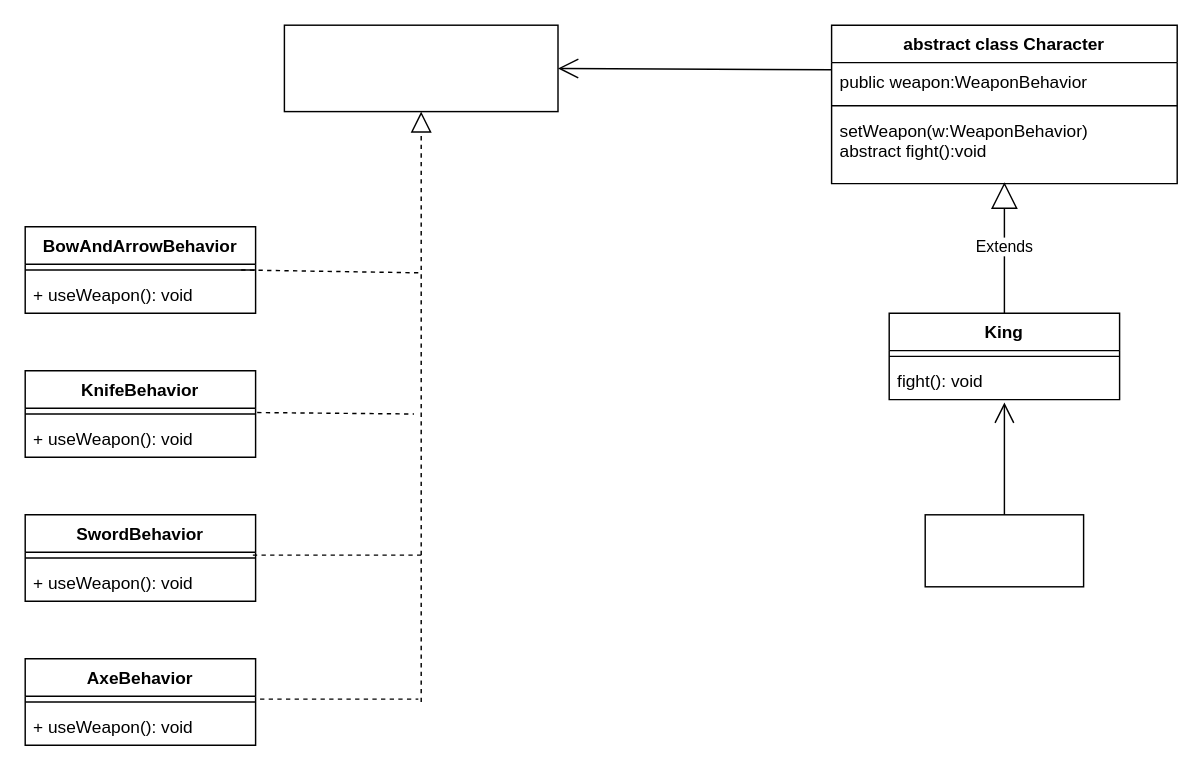
The diagram is 1202 pixels wide and 775 high, and some of its shapes have lost their labels. The shapes that lost their labels are listed below. From the top down, each one's centre as x and y in pixels, then its label:
the point at 420,68: <<Interface>> WeaponBehavior useWeapon():void
the point at 1004,550: ClientCode
